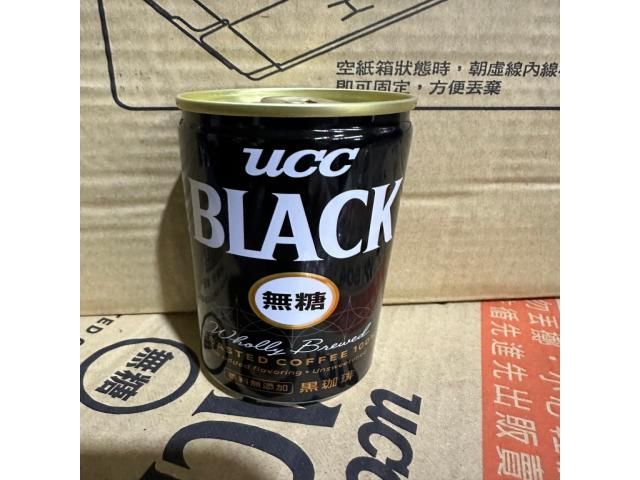Canned_drinks: (176, 88, 416, 404)
